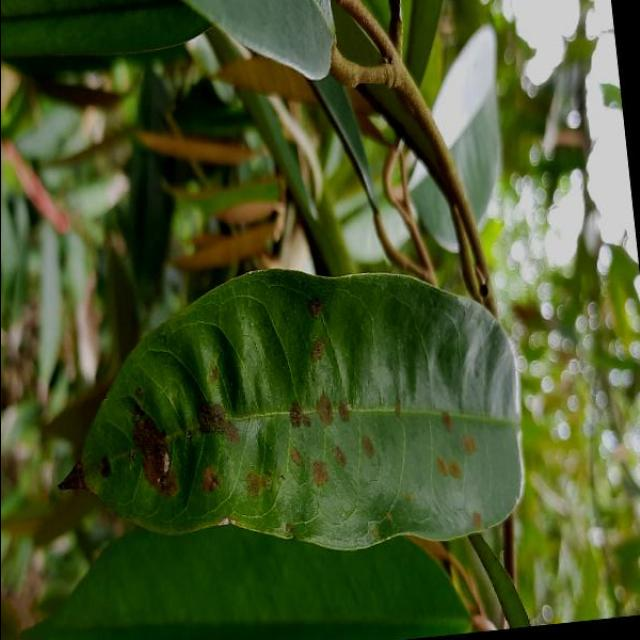Algal Leaf Spot: (29, 236, 544, 589)
